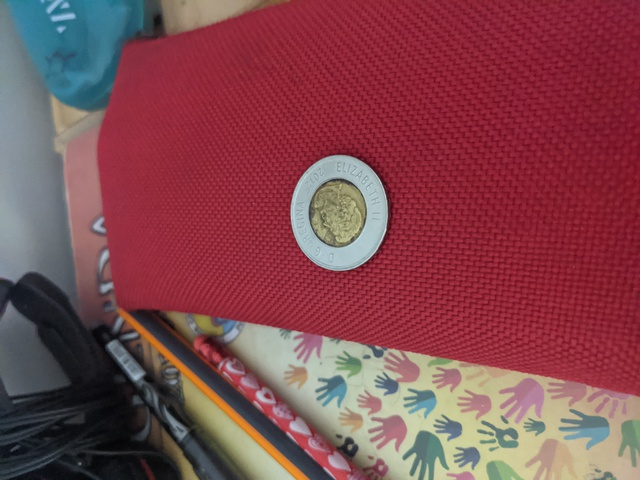twonie: (281, 151, 407, 270)
